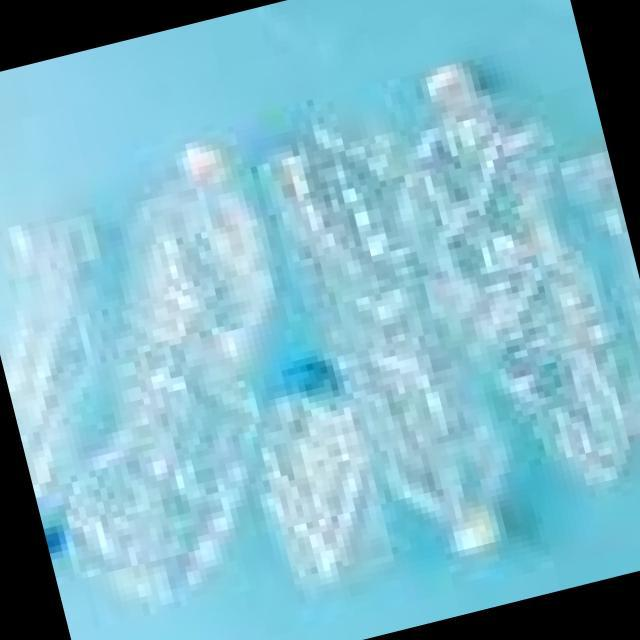defected: (0, 116, 349, 613), (364, 15, 640, 520), (266, 101, 523, 577), (0, 186, 177, 558), (230, 339, 404, 599)
